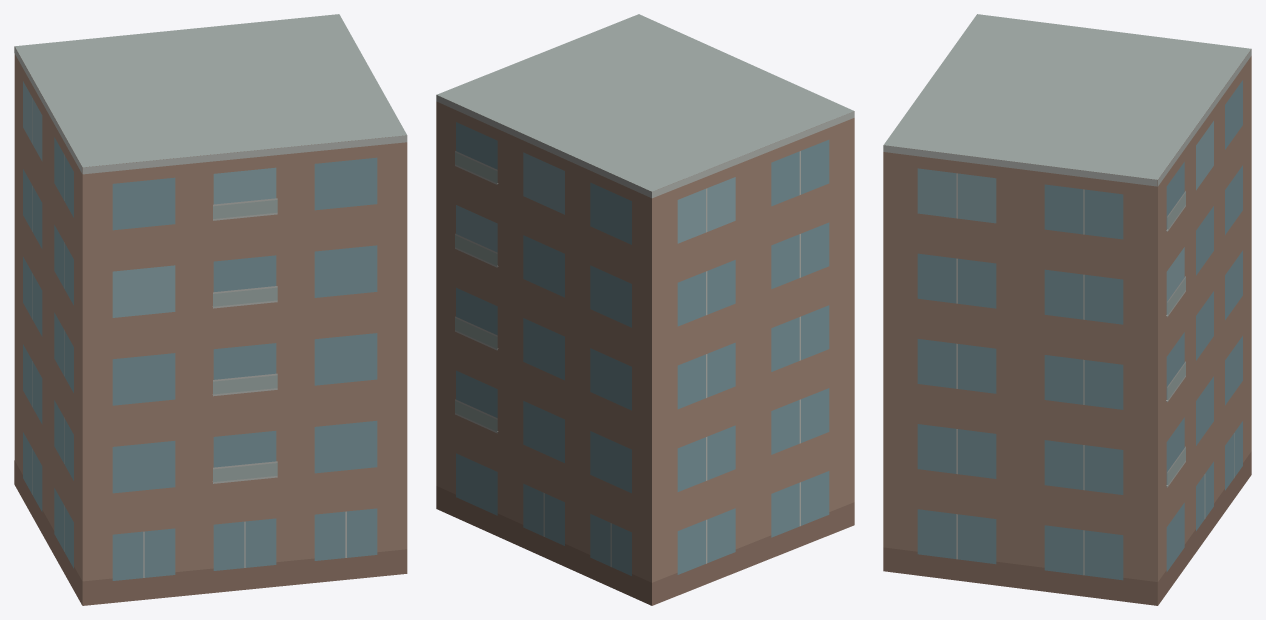
File: survey-upis-32957063.glb
3 views of the same model, side by side, from view 1: azimuth 30°, elevation 25°; view 2: azimuth 150°, elevation 25°; view 3: azimuth 270°, elevation 25° (orthographic). The views are drawn at different scales.
Parts seen in each view (by area): view 1: survey-upis-32957063.tmp; view 2: survey-upis-32957063.tmp; view 3: survey-upis-32957063.tmp.
Boxes of the visible parts, x1,y1,x2,y2 form: survey-upis-32957063.tmp: (14, 14, 407, 605); survey-upis-32957063.tmp: (436, 14, 854, 605); survey-upis-32957063.tmp: (883, 14, 1251, 605).
Size of the model in its own units: 12.78 by 15.3 by 11.99.
